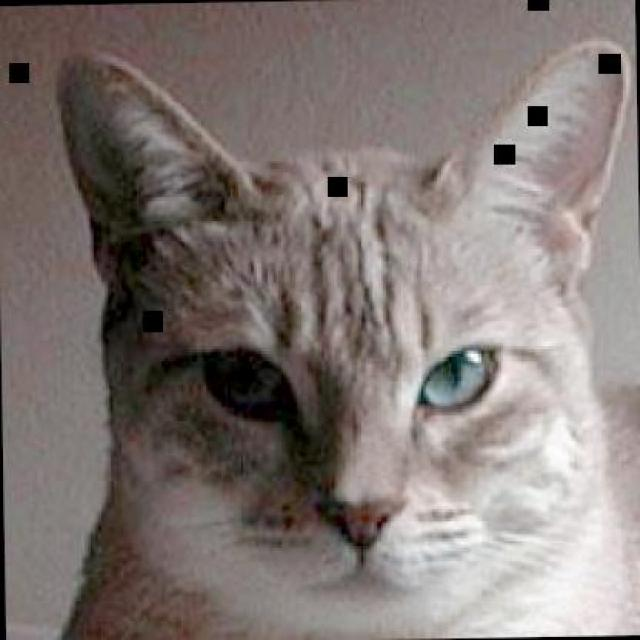cat: (46, 34, 639, 638)
